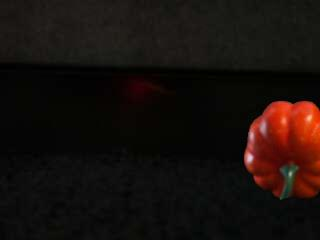Pumpkin: (244, 99, 320, 201)
